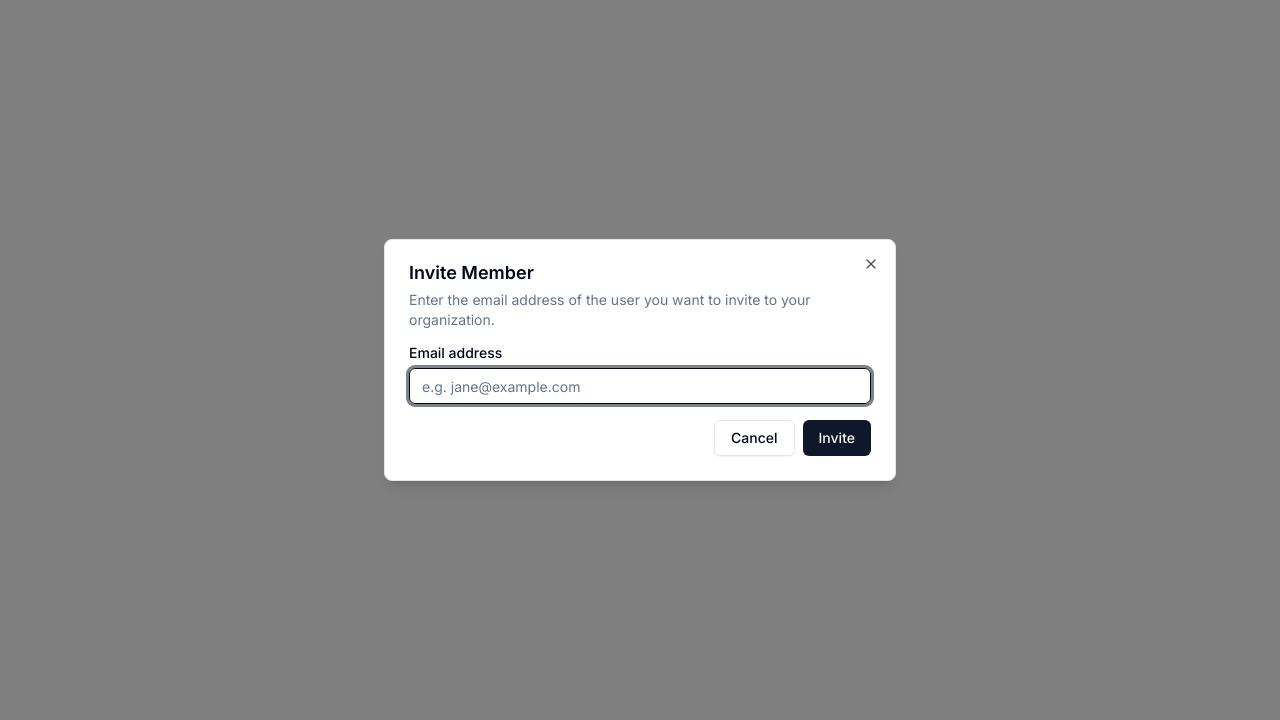
InviteMemberDialog › should validate empty email
The width and height of the screenshot is (1280, 720).
Click the button "Invite": (837, 438) [802, 420, 871, 456]
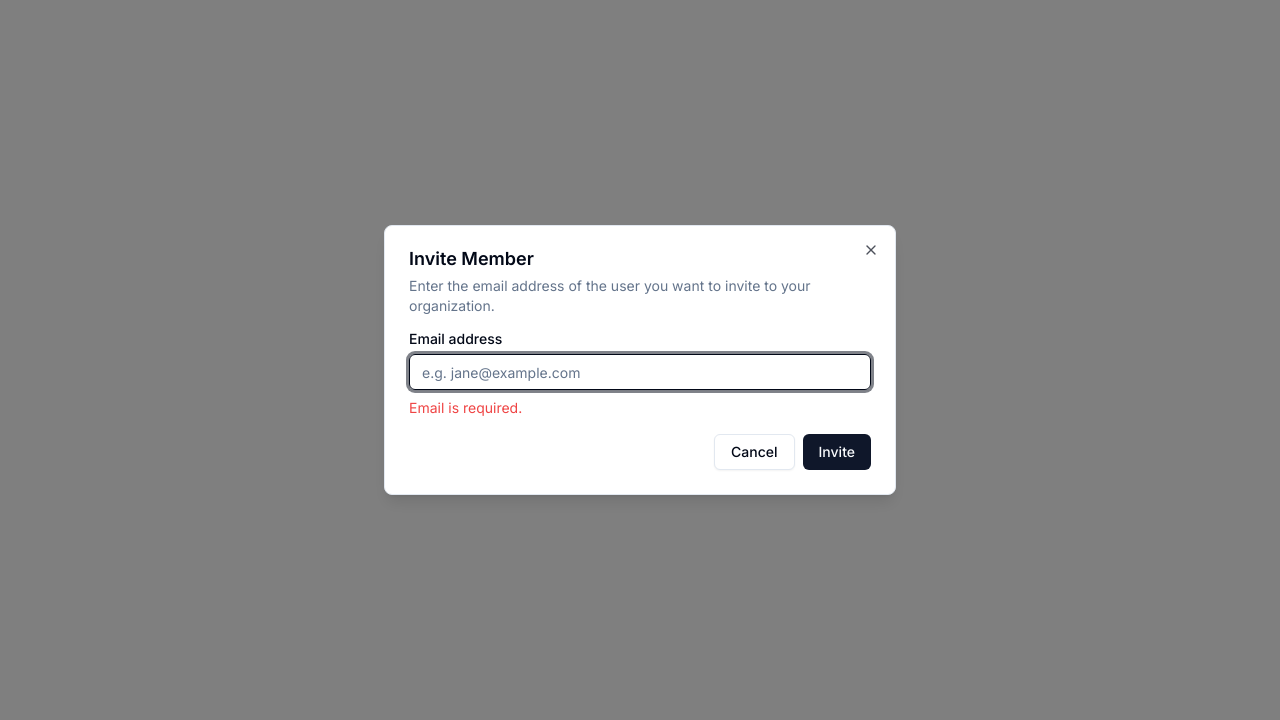
Result: the text "Email is required." is shown at [409, 399, 522, 416]
